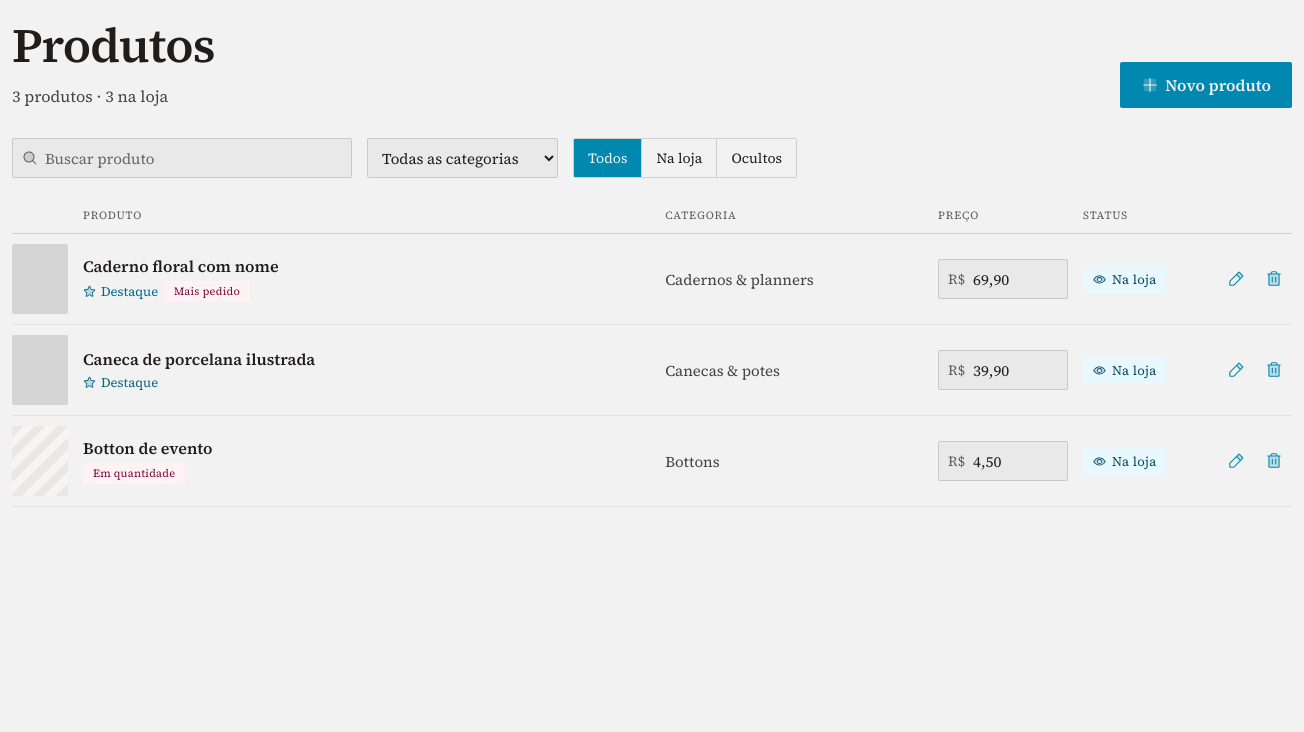
Test: ProductsPanel › does not save an invalid price and restores the old value
Replace the text in the field named "Preço de Caderno floral com nome" with "abc" at [1003, 279], box [938,259,1068,299]
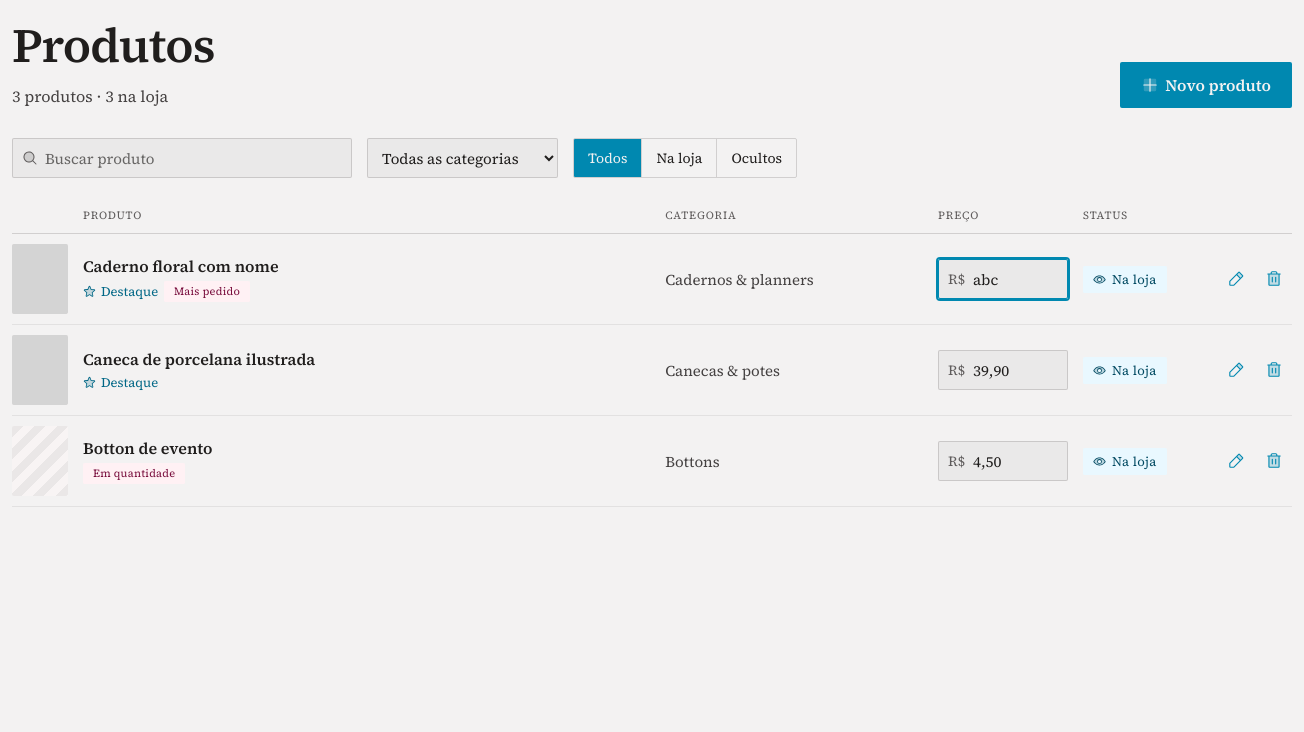
Press Tab
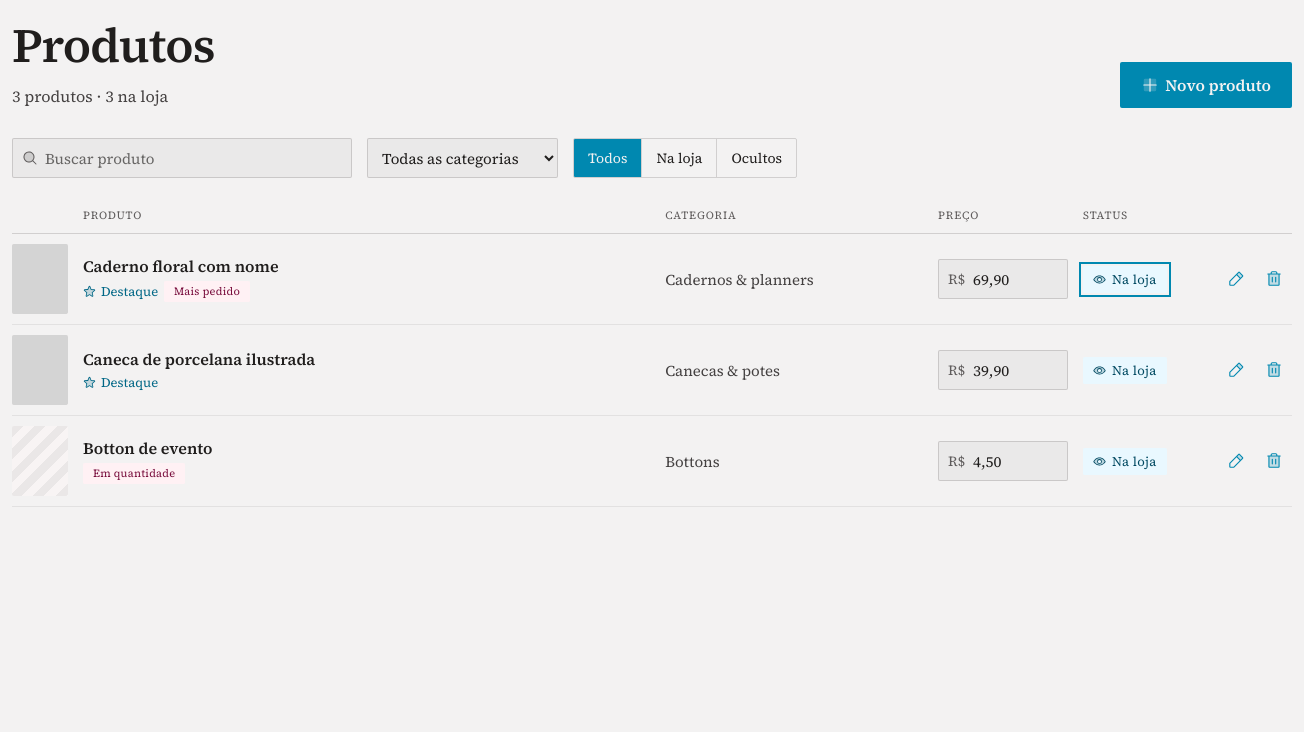
Expected: the field named "Preço de Caderno floral com nome" holds "69,90", [938,259,1068,299]
